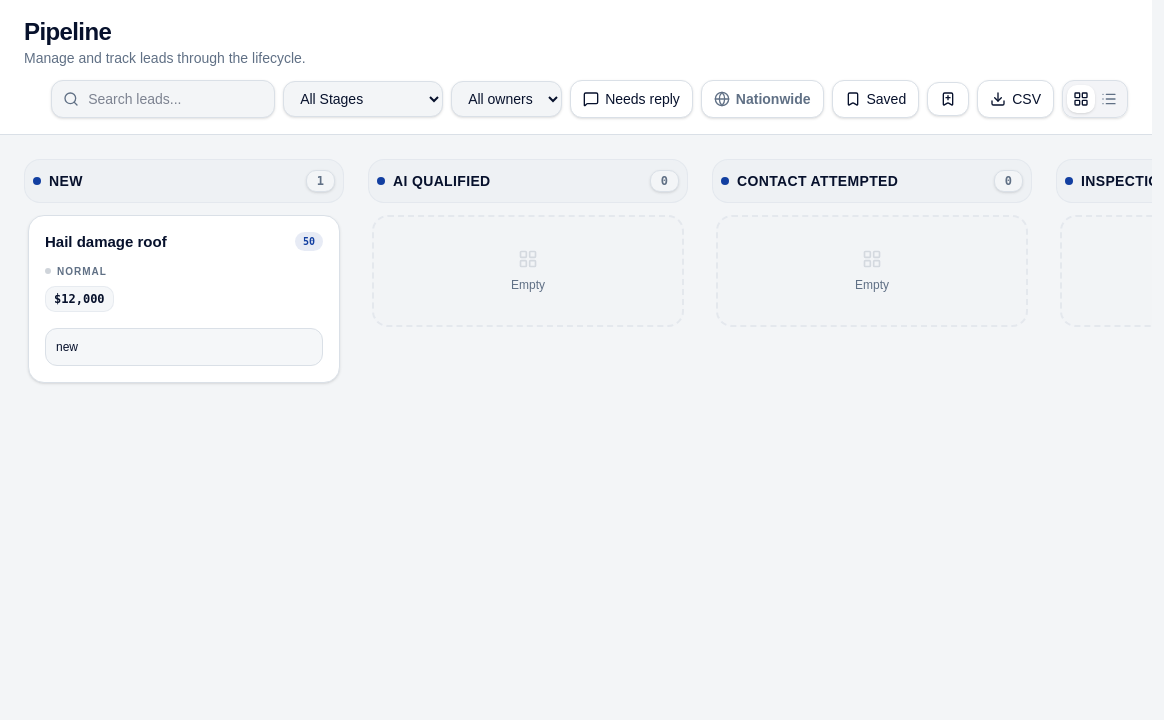
Pipeline status-change retry toast › shows a toast with Retry when the status change fails
Expected: the link "Hail damage roof" is shown, [45, 232, 167, 253]
Select "contact attempted" in the dropdown with test id "lead-status-select" at [184, 347], box [45, 328, 323, 366]
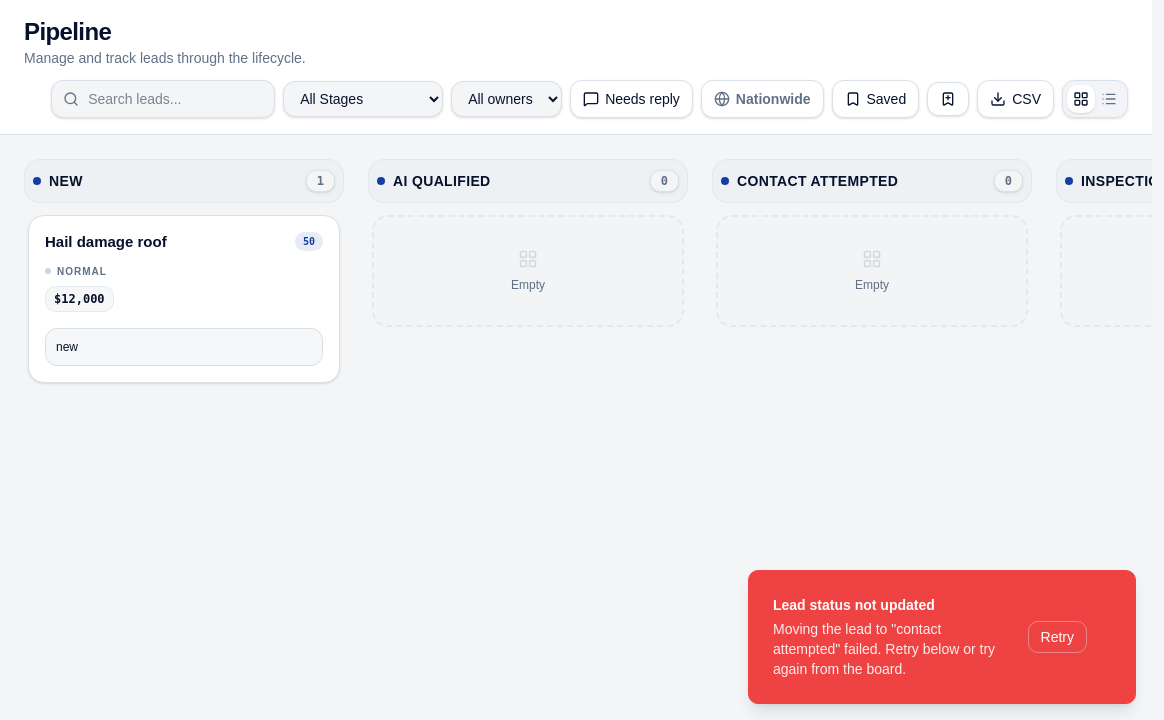
Result: the text "Lead status not updated" is shown at [773, 597, 935, 613]
Result: the button "Retry" is shown at [1028, 621, 1087, 653]
